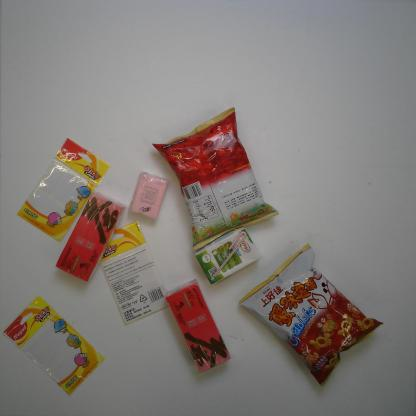Instant Drink: (55, 191, 126, 283), (165, 278, 231, 373)
Milk: (194, 226, 262, 286)
Puffed Food: (238, 242, 384, 386), (151, 107, 280, 250)
Stationery: (2, 295, 105, 396), (17, 136, 112, 243), (99, 220, 172, 325)
Tissue: (129, 172, 168, 219)
